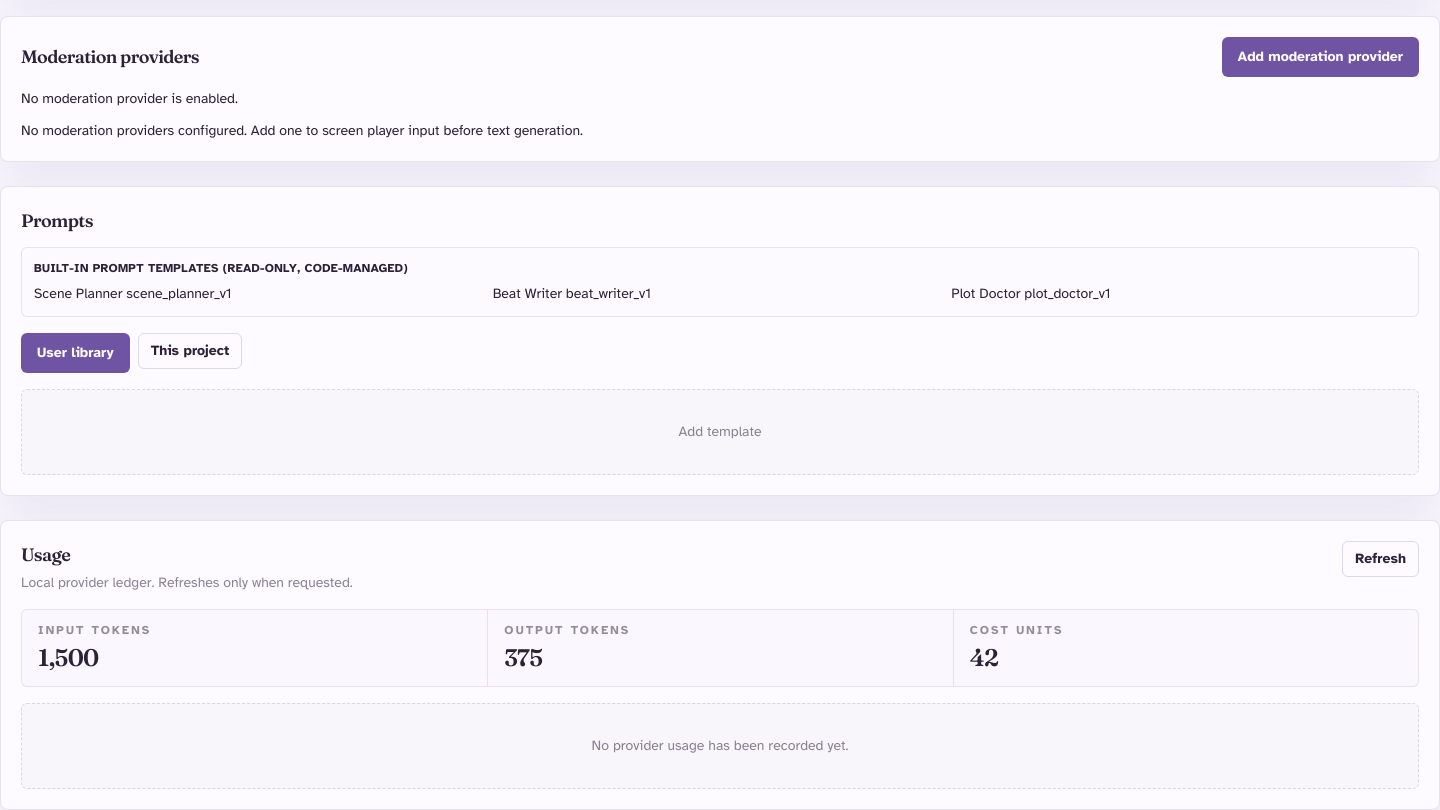
Test case: SettingsView › clears stale usage totals when a refresh fails
(page scrolled)
expect the text "1,500" is shown: met, box top-left (38, 642), bottom-right (98, 672)
Click the button "Refresh".
click(1381, 558)  # box top-left (1342, 540), bottom-right (1419, 576)
(page scrolled)
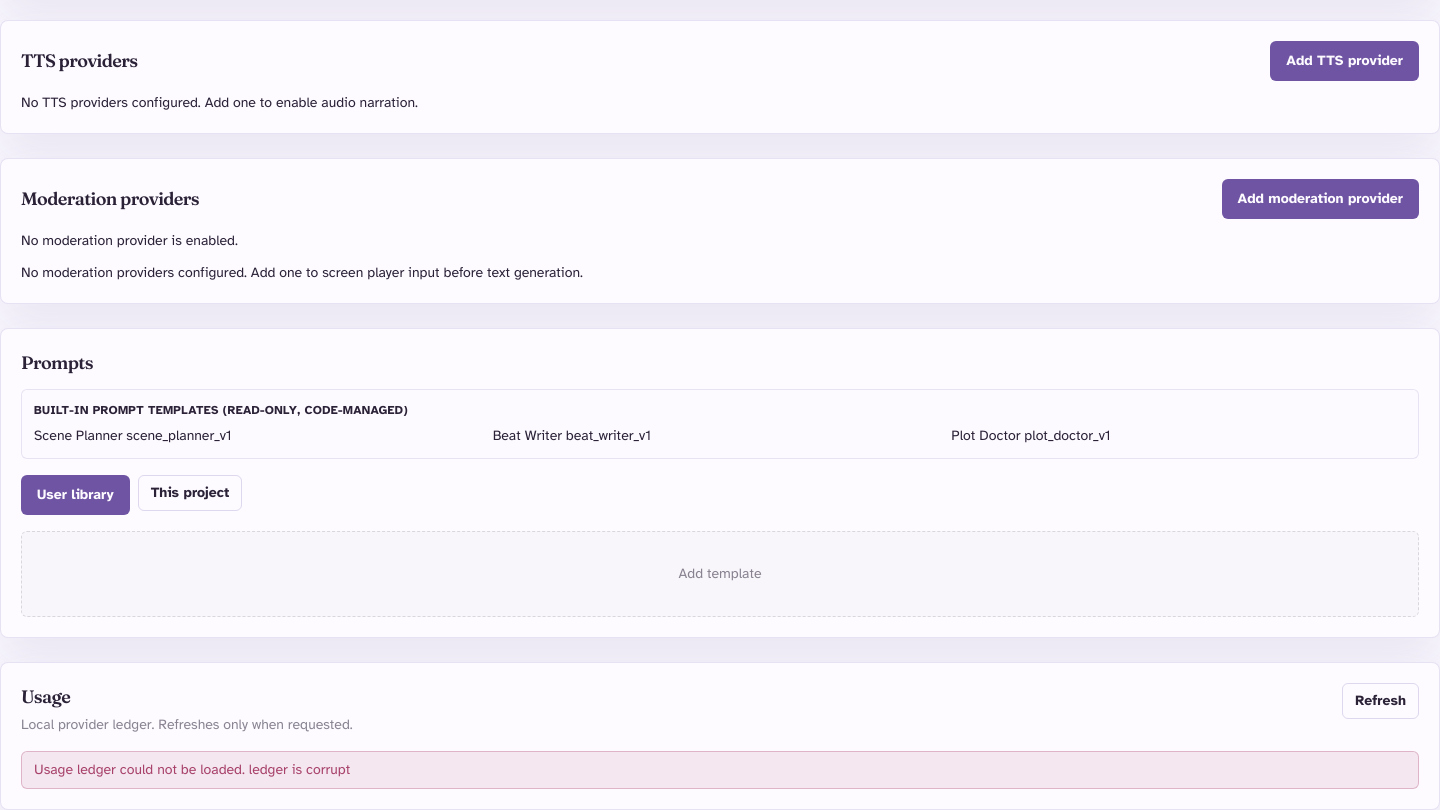
expect the message shows "ledger is corrupt": met, box top-left (249, 760), bottom-right (350, 778)
expect the text "1,500" is gone: met
